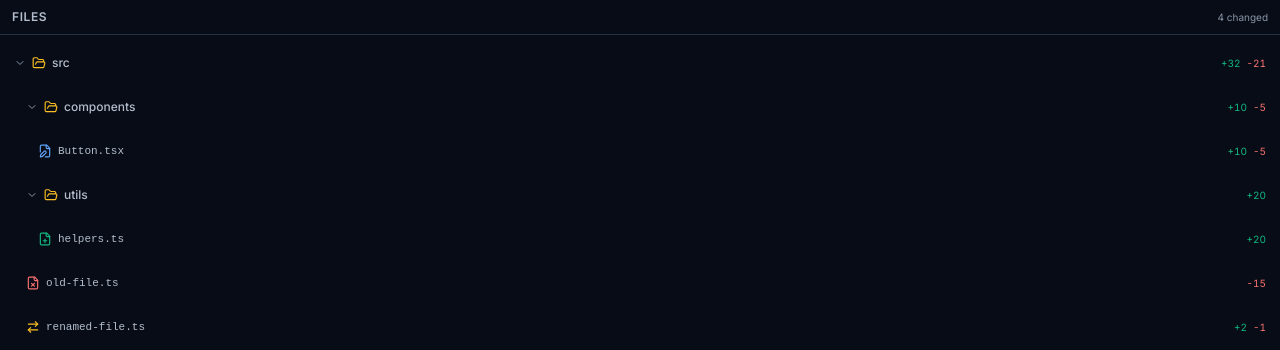
Test: FileTree › Tree Structure › should be able to collapse and expand directories
Expected: the text "Button.tsx" is shown, [58,143,124,159]
// Click the components folder to collapse it
Click the button "components +10 -5".
click(100, 106)  # box [6,85,1274,129]
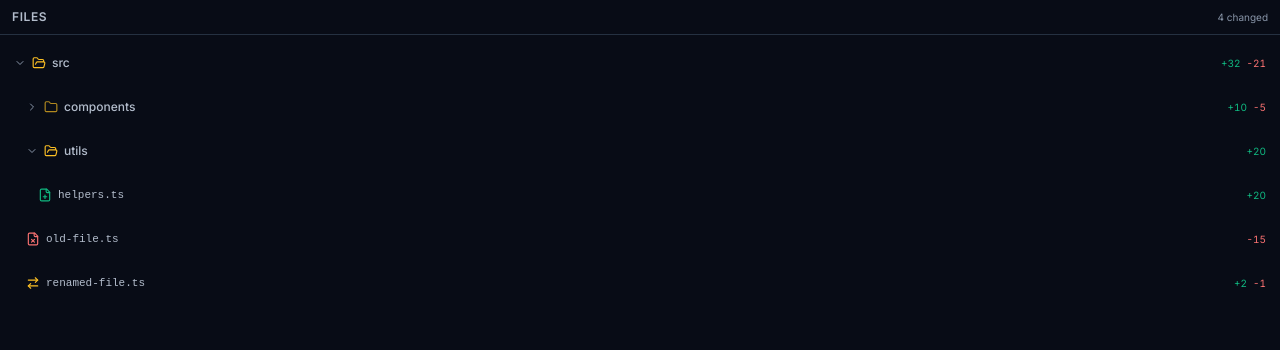
Now the button "Button.tsx" is gone
// Click again to expand
Click the button "components +10 -5".
click(100, 106)  # box [6,85,1274,129]
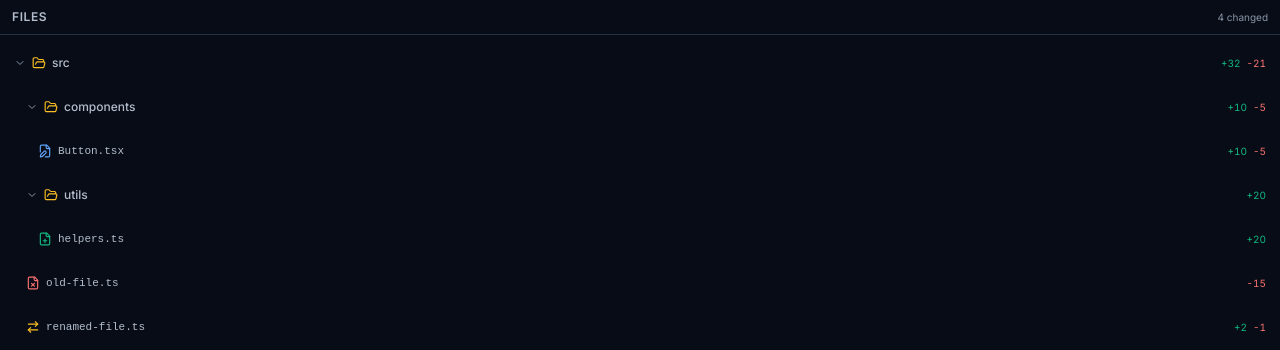
Now the text "Button.tsx" is shown, box [58,143,124,159]
